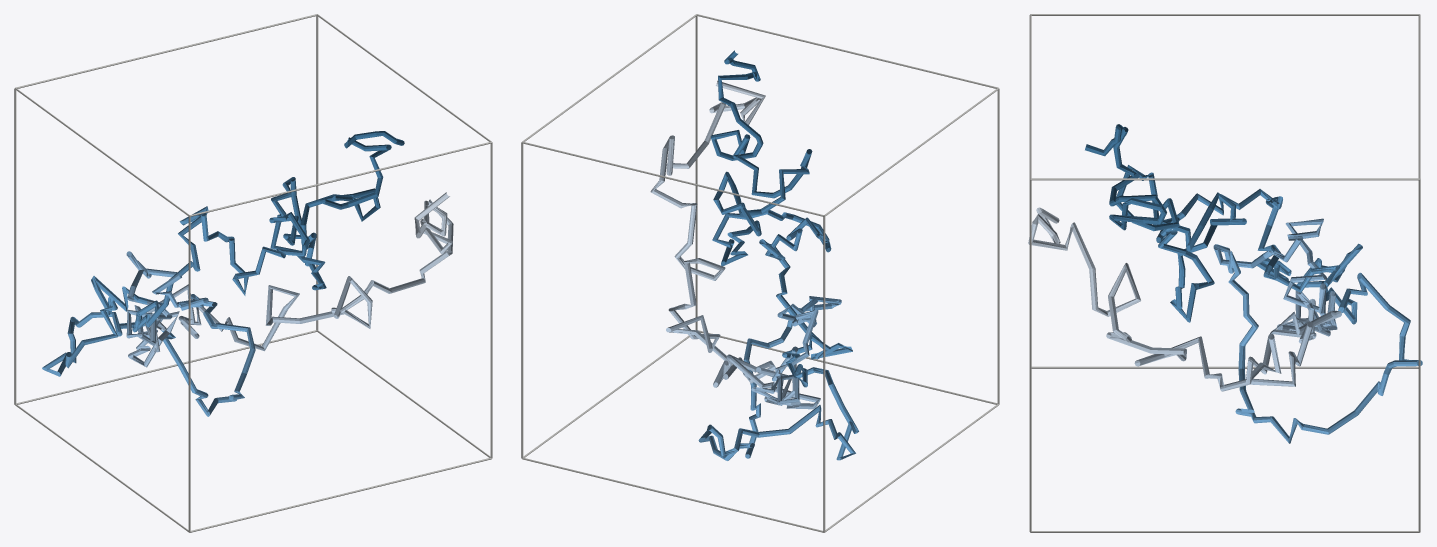
3 views of the same model, side by side, from view 1: azimuth 30°, elevation 25°; view 2: azimuth 150°, elevation 25°; view 3: azimuth 270°, elevation 25° (orthographic). The views are drawn at different scales.
Visible parts, largest first — view 1: geometry_0, geometry_1; view 2: geometry_0, geometry_1; view 3: geometry_0, geometry_1.
Part boxes in pixels (<box>): geometry_0: <box>42,131,453,416</box>; geometry_1: <box>14,14,492,532</box>; geometry_0: <box>650,50,858,460</box>; geometry_1: <box>521,14,999,532</box>; geometry_0: <box>1028,124,1422,443</box>; geometry_1: <box>1029,14,1420,532</box>.
Size of the model in its own units: 0.3037 by 0.3046 by 0.3042.
